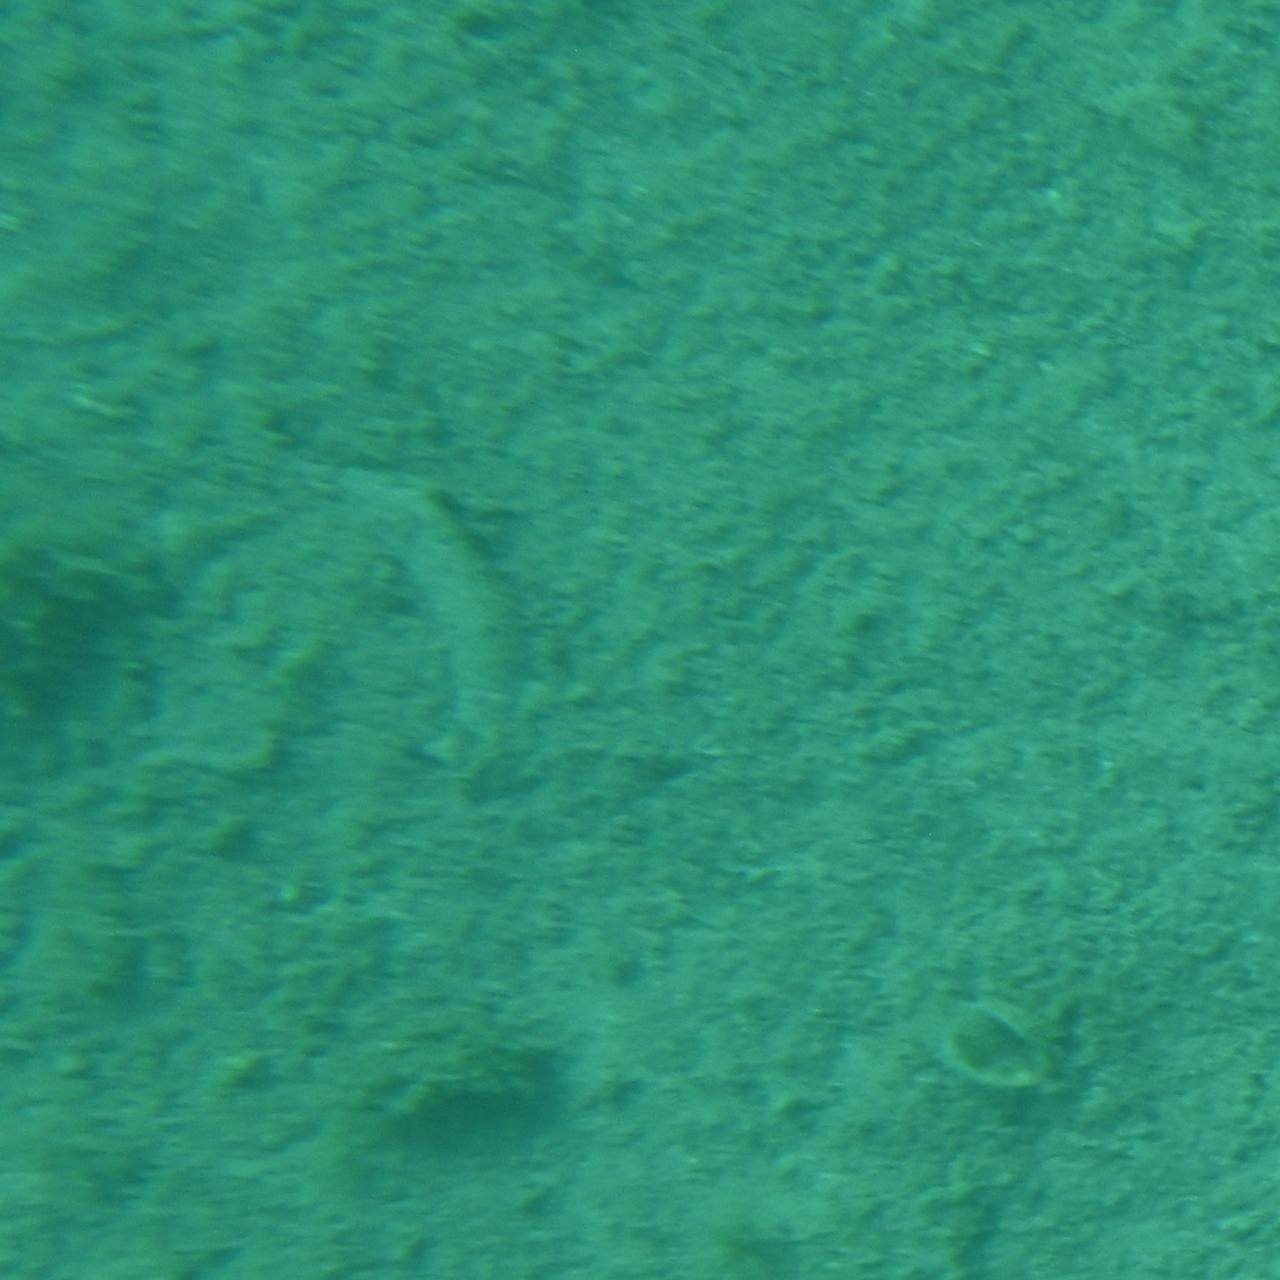Holothuria tubulosa: (314, 472, 526, 808)
